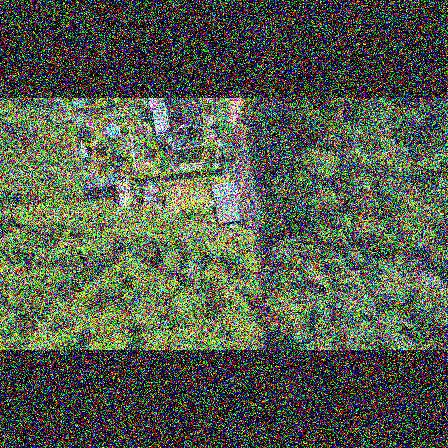Dead: (415, 269, 447, 294), (178, 257, 206, 283)
